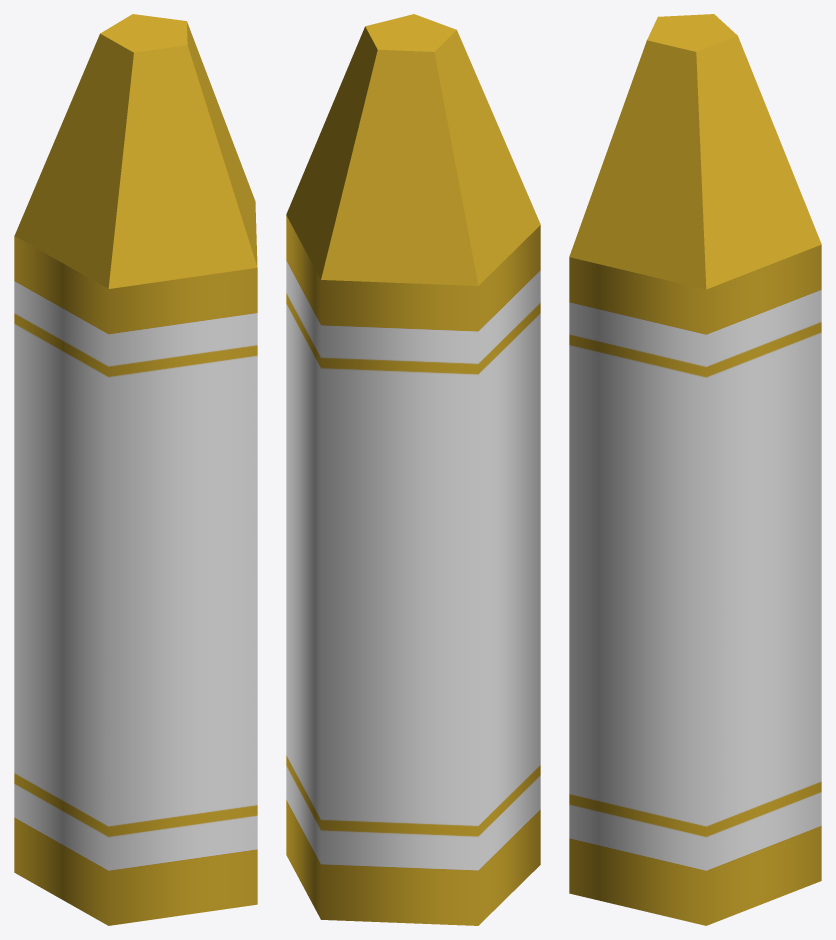
File: Crepas_Yellow.fbx
3 views of the same model, side by side, from view 1: azimuth 30°, elevation 25°; view 2: azimuth 150°, elevation 25°; view 3: azimuth 270°, elevation 25° (orthographic).
Visible parts, largest first — view 1: Yellow; view 2: Yellow; view 3: Yellow.
Part boxes in pixels (<box>): Yellow: <box>14,14,257,925</box>; Yellow: <box>286,14,540,925</box>; Yellow: <box>569,14,821,925</box>.
Bounding box in the file's own units: 8.36 × 30.99 × 8.46.
1 material, 1 textured.
